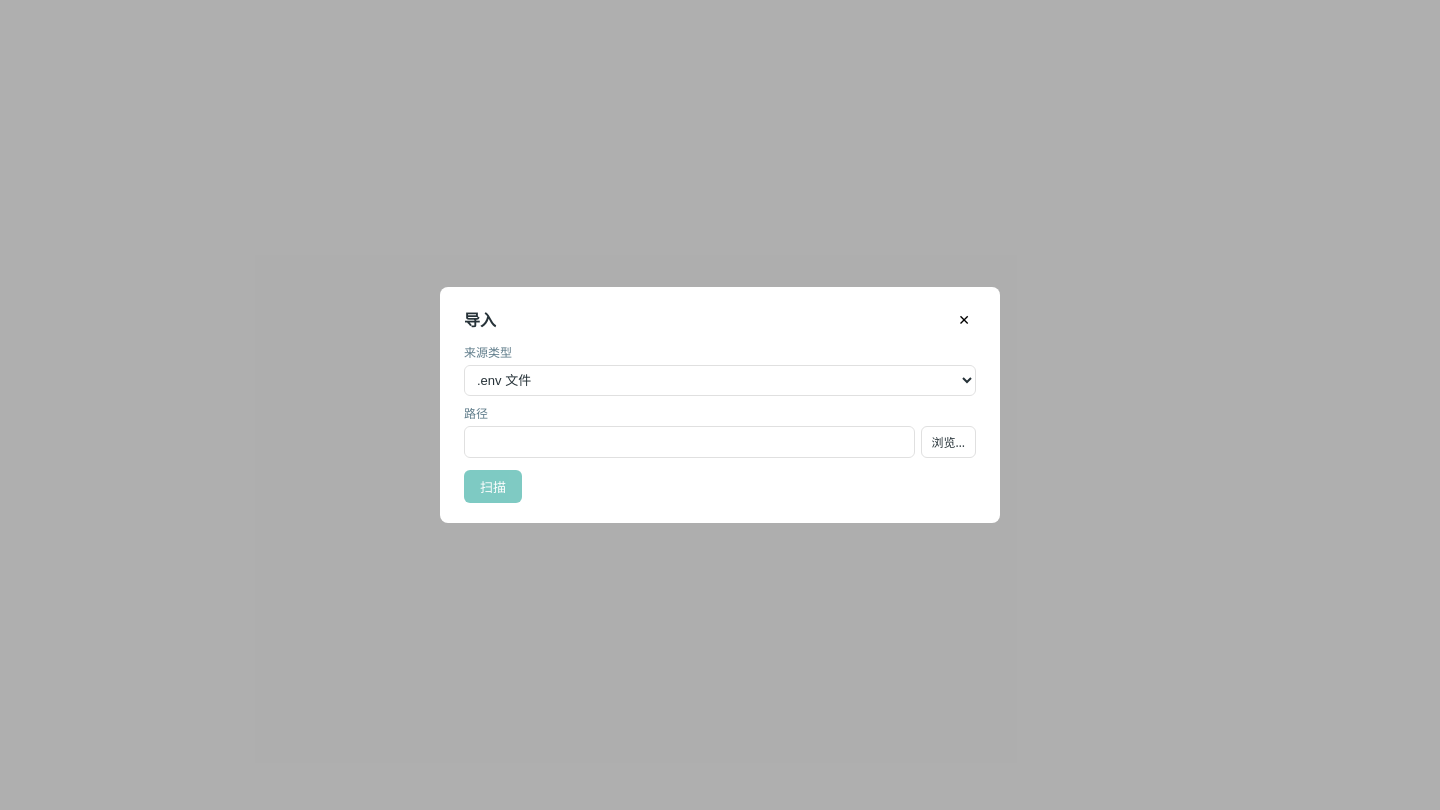
Test: ImportWizard › 扫描 → 报告与候选表；确认提交并上抛 imported
This screenshot has width=1440, height=810.
Select ".env 文件" in the dropdown with id "imp-kind" at point(720, 380), box [464, 365, 976, 396]
Type "C:/tmp/.env" into the field with id "imp-path" at point(689, 442), box [464, 426, 914, 458]
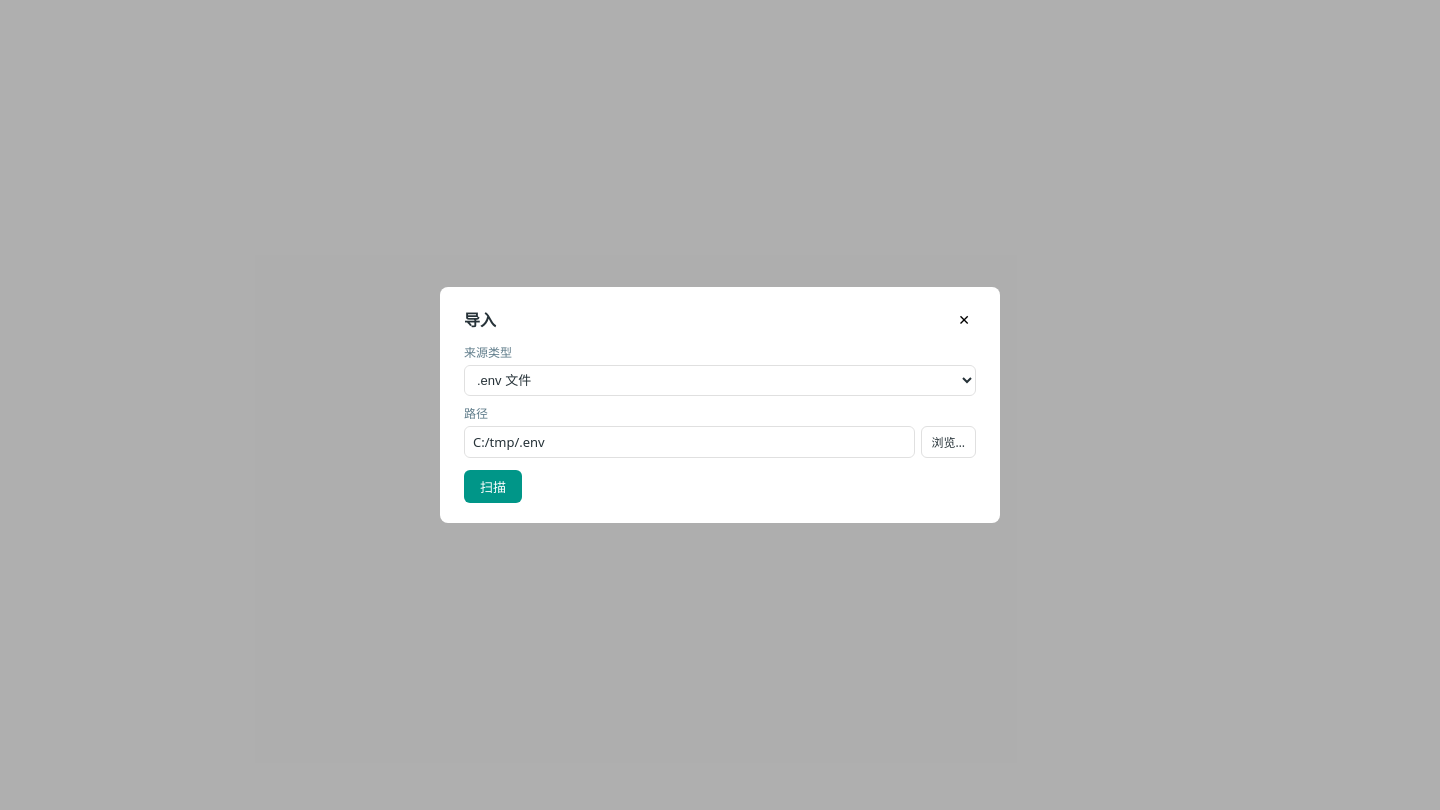
Click the button "扫描" at point(493, 486), box [464, 470, 522, 503]
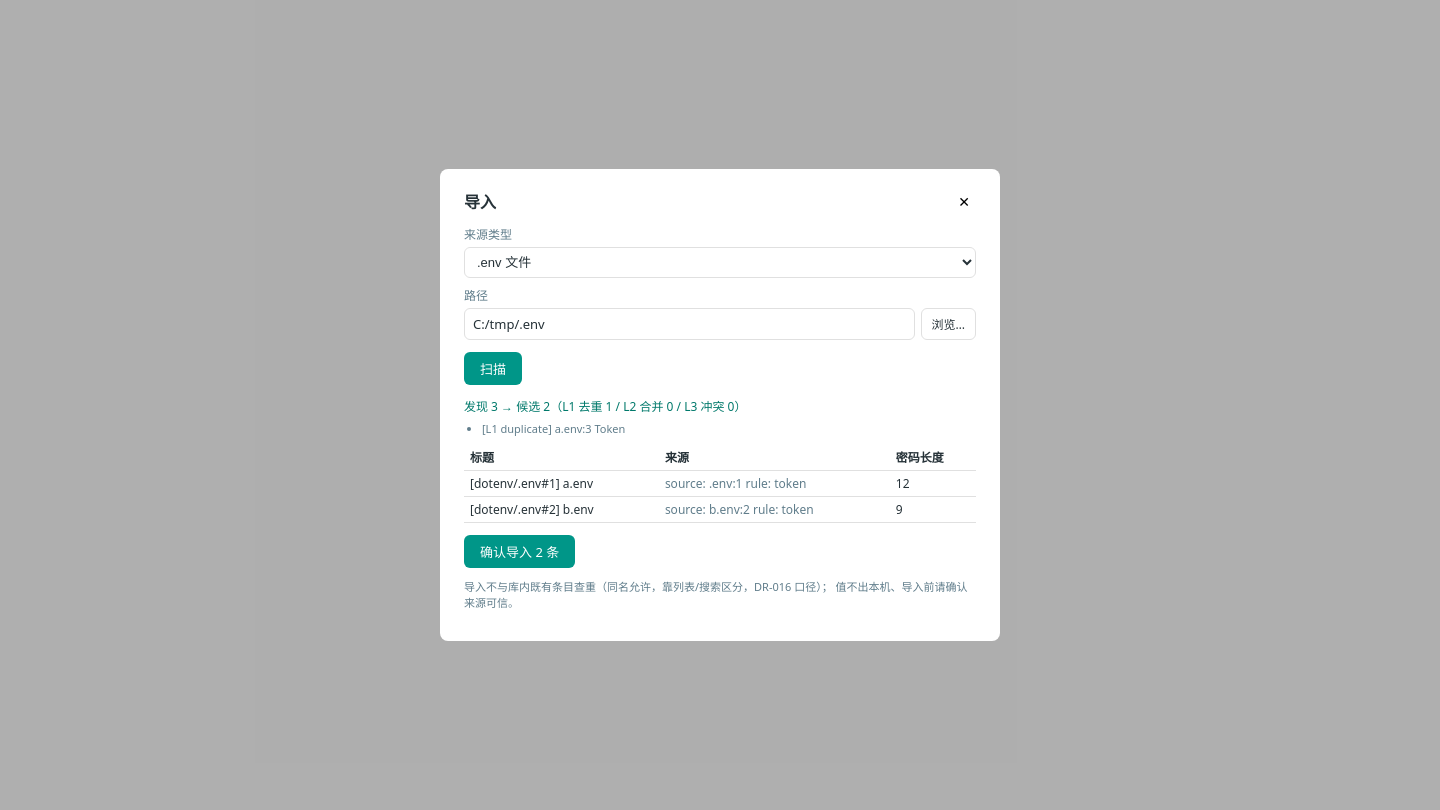
Now the text "候选 2" is shown, box [464, 398, 746, 415]
Now the text "[dotenv/.env#1] a.env" is shown, box [464, 470, 659, 496]
// 确认提交（第二个 primary 按钮）
Click the button "确认导入 2 条" at point(520, 552), box [464, 535, 575, 568]
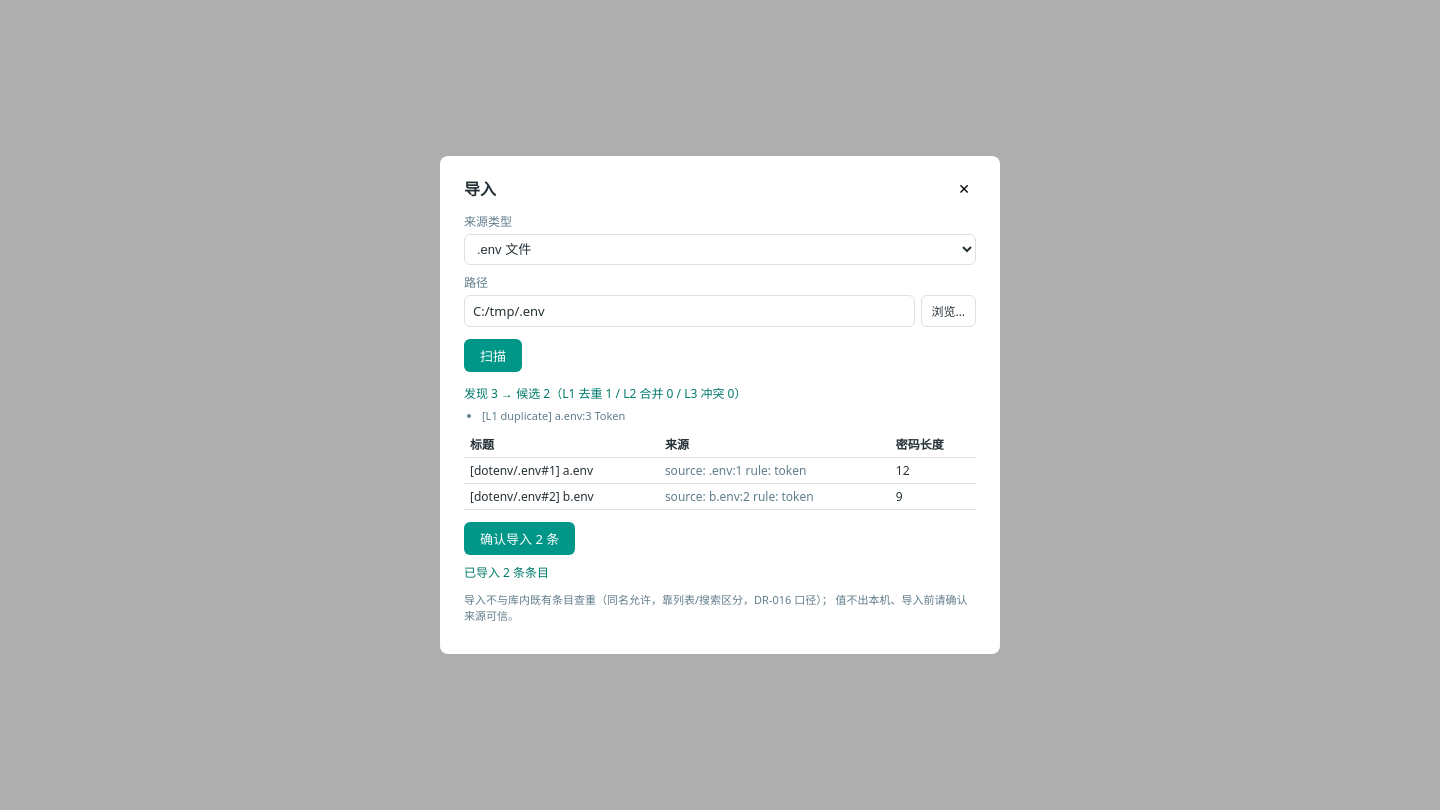
Now the text "已导入 2 条" is shown, box [464, 564, 549, 581]
